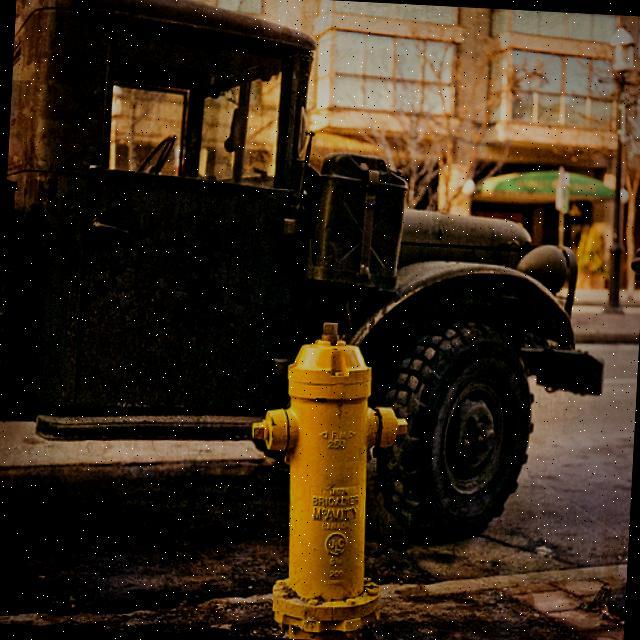fire_hydrant: (244, 319, 407, 635)
